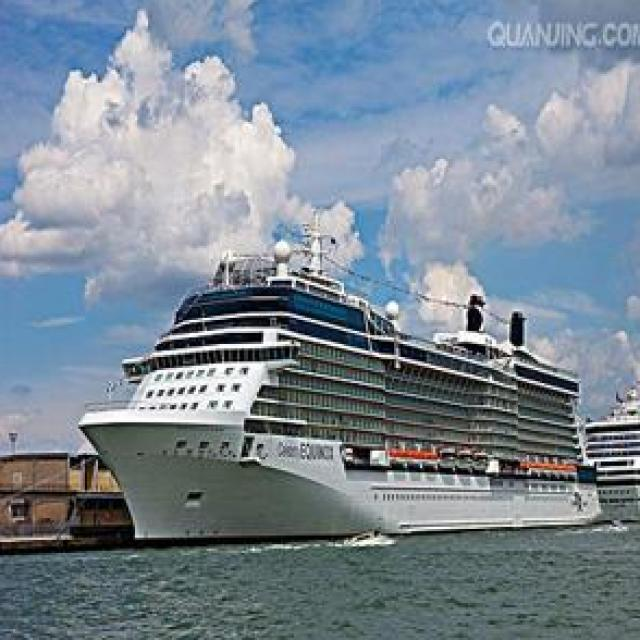passenger ship: (81, 238, 596, 542), (583, 376, 640, 526)
